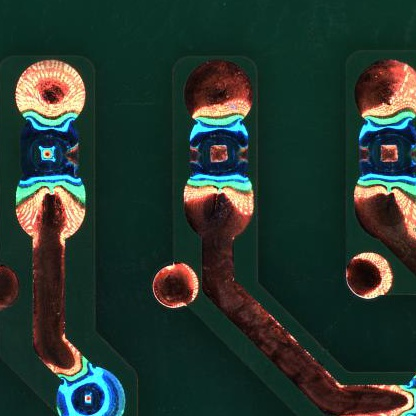spot: (19, 113, 81, 179), (189, 118, 249, 183), (52, 365, 126, 416), (358, 119, 415, 184)
